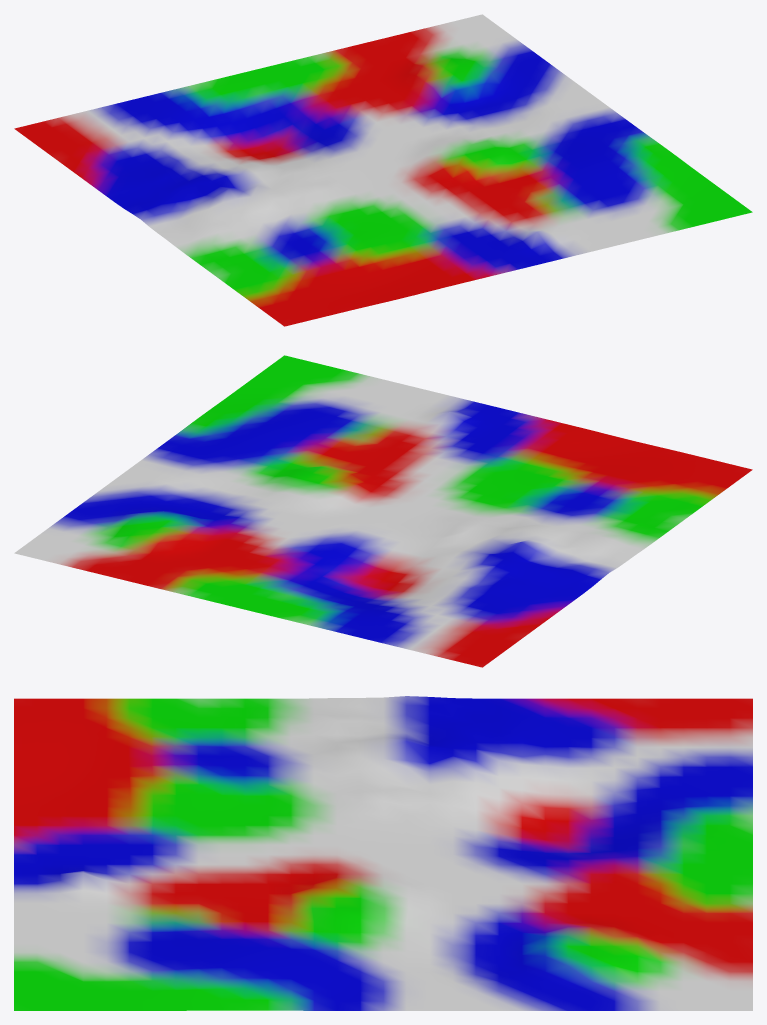
File: test floor vertex color.fbx
The picture shows the model from 3 angles, top to bottom: view 1: azimuth 30°, elevation 25°; view 2: azimuth 150°, elevation 25°; view 3: azimuth 270°, elevation 25°; orthographic projection. The views are drawn at different scales.
Visible parts, largest first — view 1: Plane; view 2: Plane; view 3: Plane.
Part boxes in pixels (x1,y1,x2,y2): Plane: (14, 14, 752, 326); Plane: (14, 355, 752, 667); Plane: (14, 696, 752, 1010).
Size of the model in its own units: 60 by 2.9 by 60.
